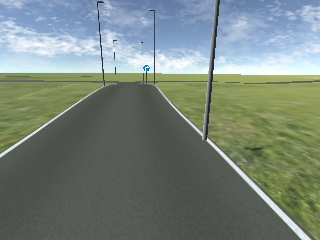right: (142, 65, 151, 72)
